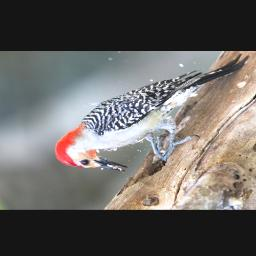Woodpecker: (55, 56, 247, 171)
